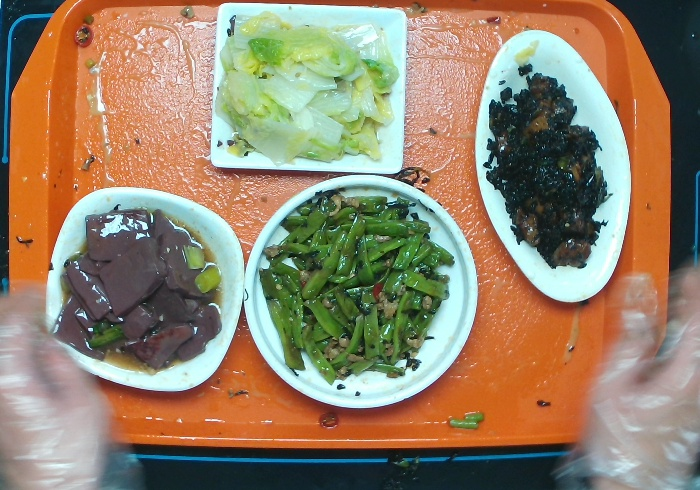HZYJPL-Si_Fang_Die: (203, 1, 417, 186)
HZYJPL-Si_Fang_Yuan_Die: (38, 176, 254, 403)
HZYJPL-Xiao_Yu_Die: (470, 26, 640, 307)
HZYJPL-Xiao_Yuan_Die: (240, 168, 482, 411)
